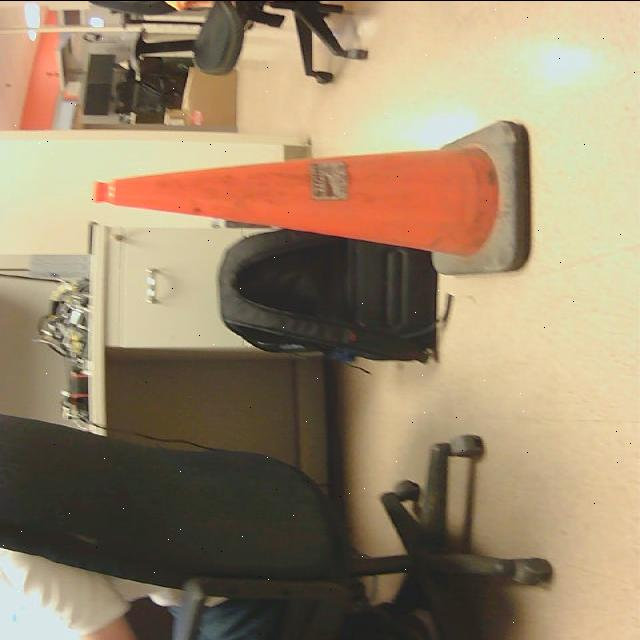traffic cone: (94, 120, 536, 275)
